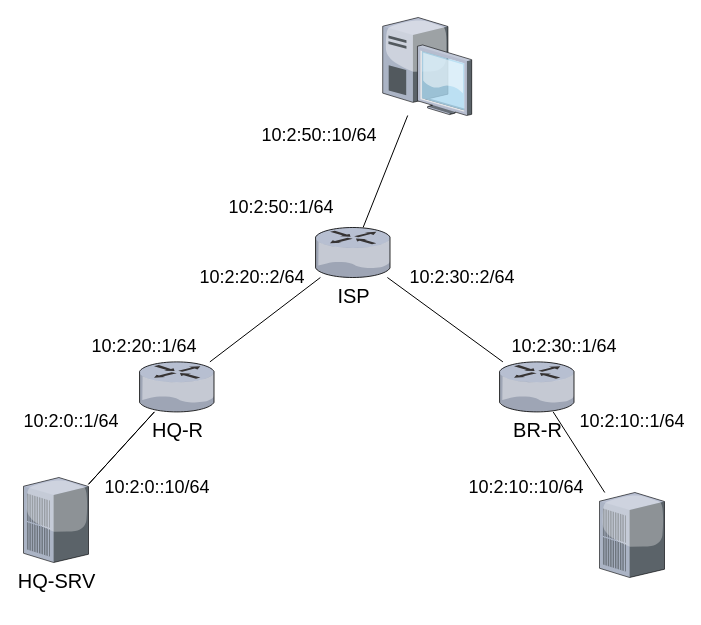
Image size: 701x625. Some labels were removed from this diagram. Each missing label, with the centre of its shape:
"BR-SRV" goes at pixel 631 534.
"CLI" goes at pixel 426 66.
